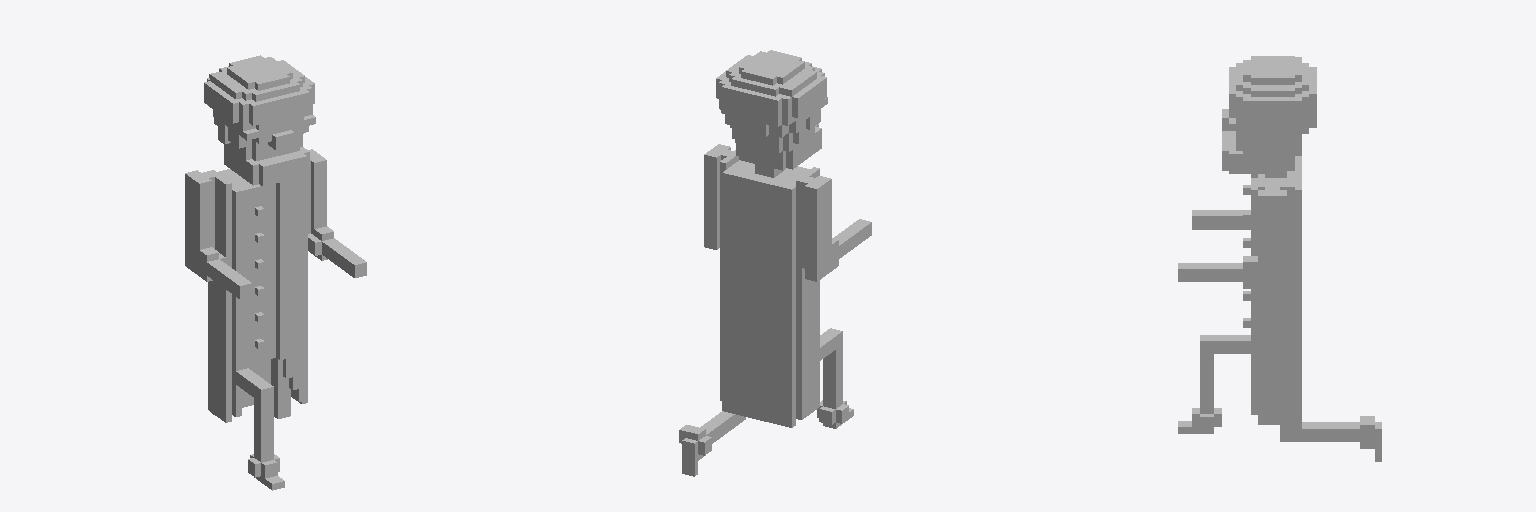
File: Scientist wolk-00.obj
3 renders of one model, left to right at view 1: azimuth 30°, elevation 25°; view 2: azimuth 150°, elevation 25°; view 3: azimuth 270°, elevation 25°, orthographic.
Bounding box in the file's own units: 19 × 57 × 28.